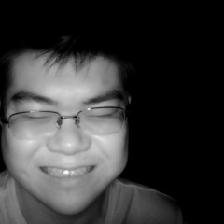happy: (1, 35, 145, 215)
